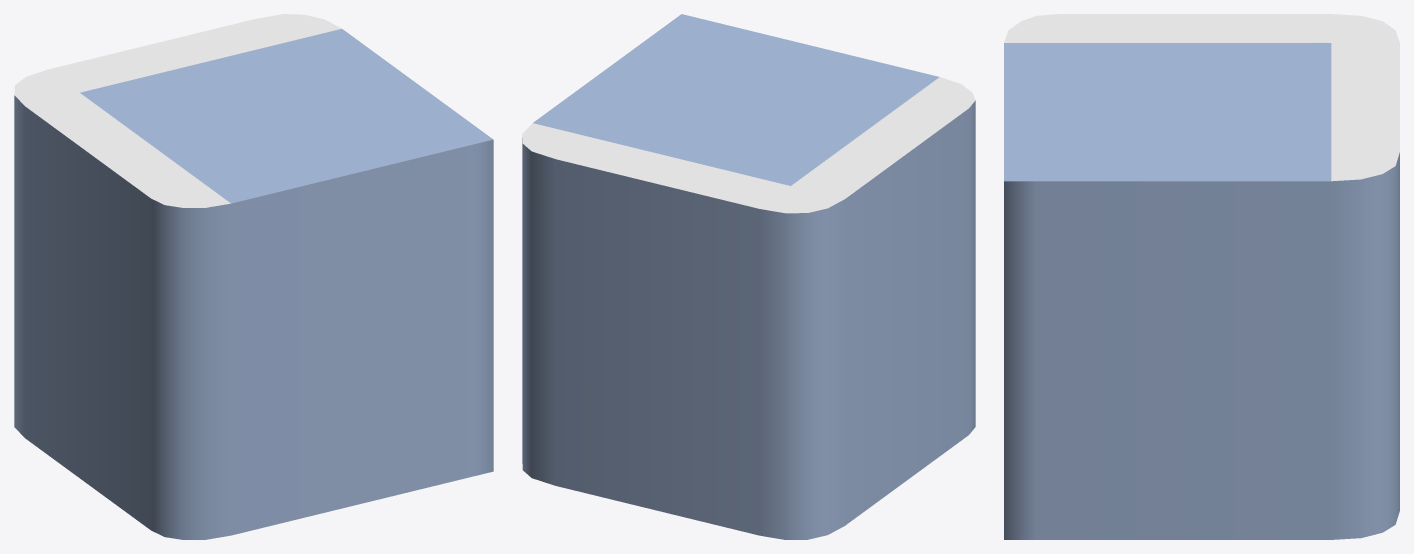
3 views of the same model, side by side, from view 1: azimuth 30°, elevation 25°; view 2: azimuth 150°, elevation 25°; view 3: azimuth 270°, elevation 25° (orthographic). The views are drawn at different scales.
Parts seen in each view (by area): view 1: Box002.001; view 2: Box002.001; view 3: Box002.001.
Part boxes in pixels (left/top/right/bottom): Box002.001: left=14, top=14, right=493, bottom=539; Box002.001: left=522, top=14, right=975, bottom=539; Box002.001: left=1004, top=14, right=1399, bottom=539.
Size of the model in its own units: 127 by 127 by 127.
